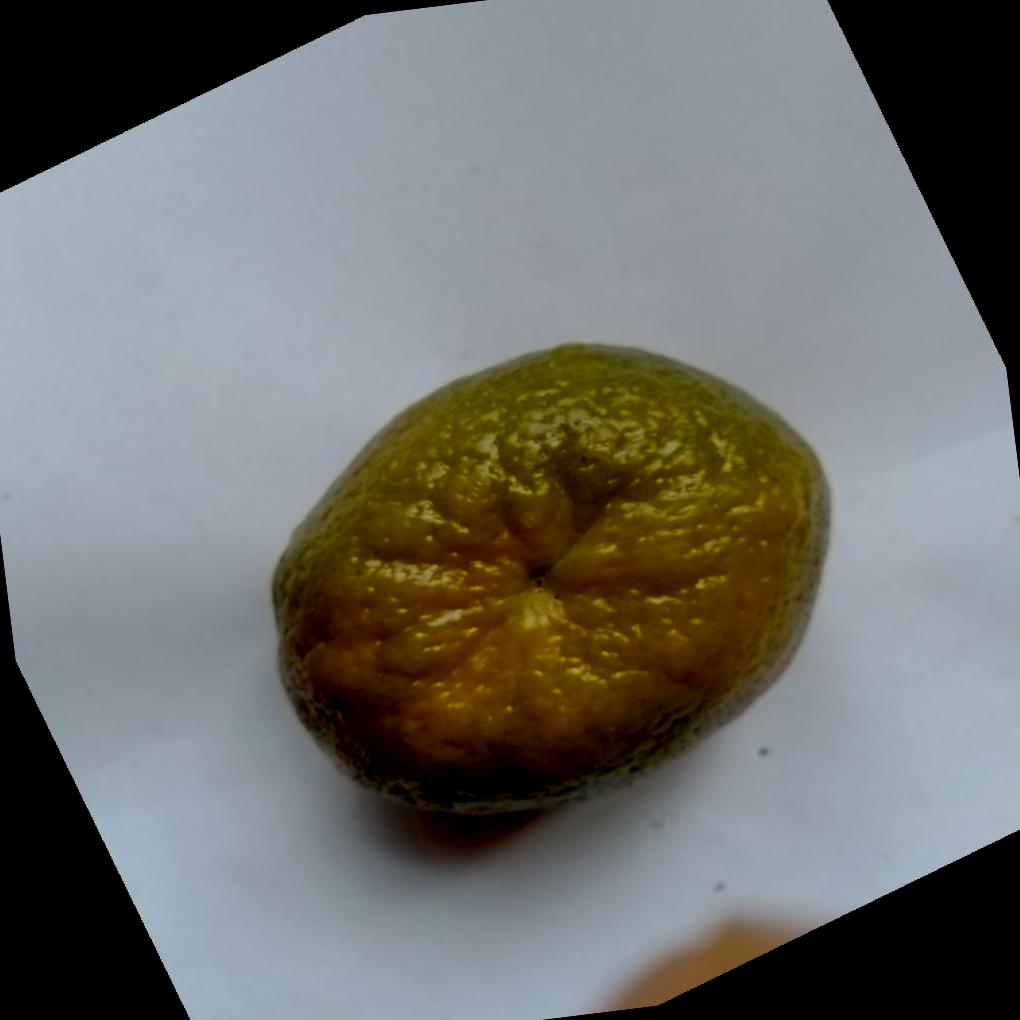FreshGuava: (267, 336, 835, 814)
